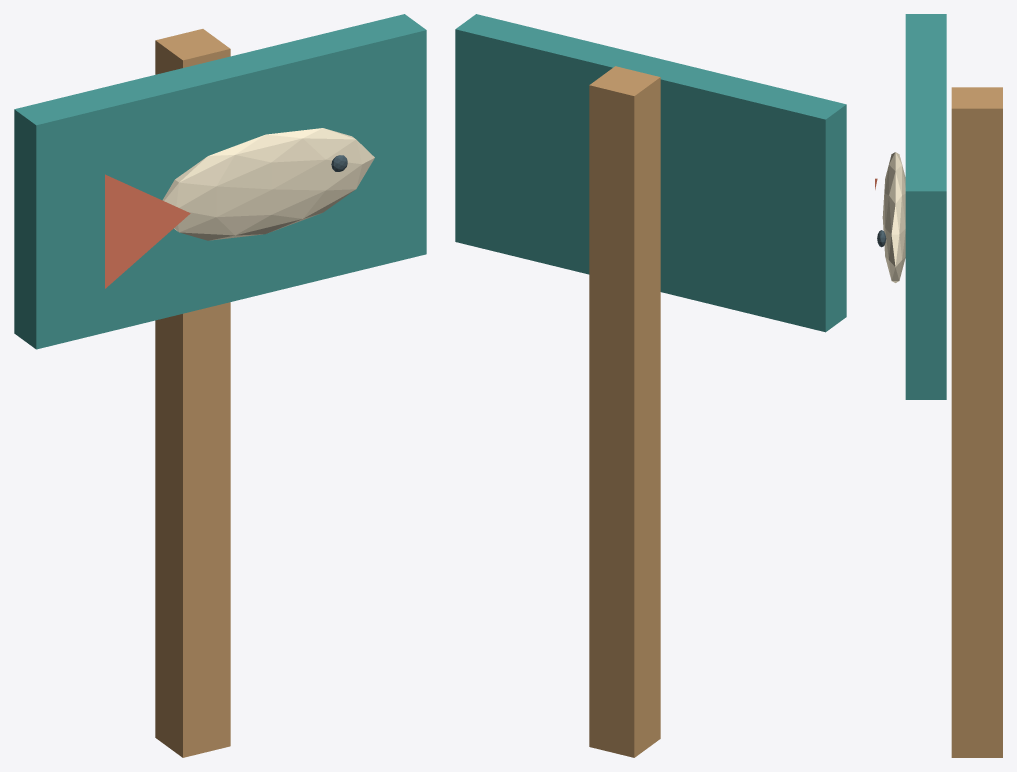
Rendered from fishing_spot_sign_quiet_lake_fishing_22419.glb.
The picture shows the model from 3 angles, left to right: view 1: azimuth 30°, elevation 25°; view 2: azimuth 150°, elevation 25°; view 3: azimuth 270°, elevation 25°; orthographic projection. The views are drawn at different scales.
Parts seen in each view (by area): view 1: teal, wood, cream, coral; view 2: teal, wood; view 3: wood, teal, cream.
Part boxes in pixels (x1,y1,x2,y2): teal: [14, 14, 426, 349]; wood: [155, 29, 230, 757]; cream: [162, 128, 374, 240]; coral: [105, 174, 190, 288]; teal: [455, 14, 846, 332]; wood: [589, 66, 660, 757]; wood: [951, 87, 1002, 757]; teal: [905, 14, 946, 399]; cream: [882, 152, 905, 282].
Size of the model in its own units: 0.82 by 1.4 by 0.25.
